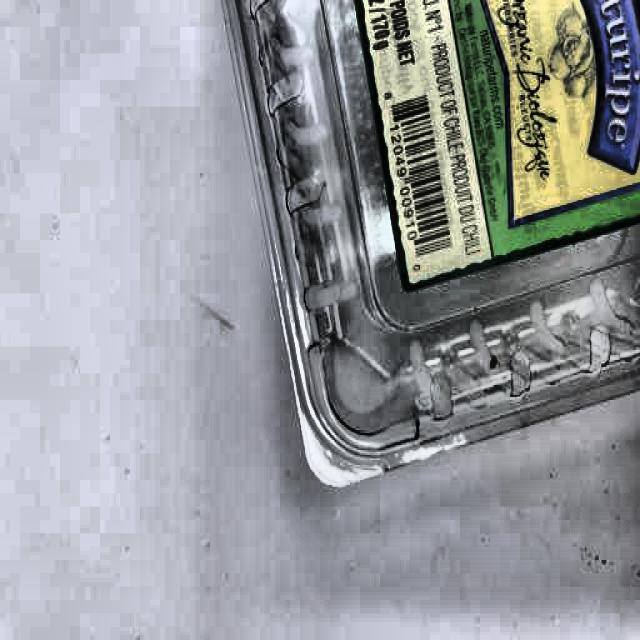plastic: (219, 3, 640, 494)
